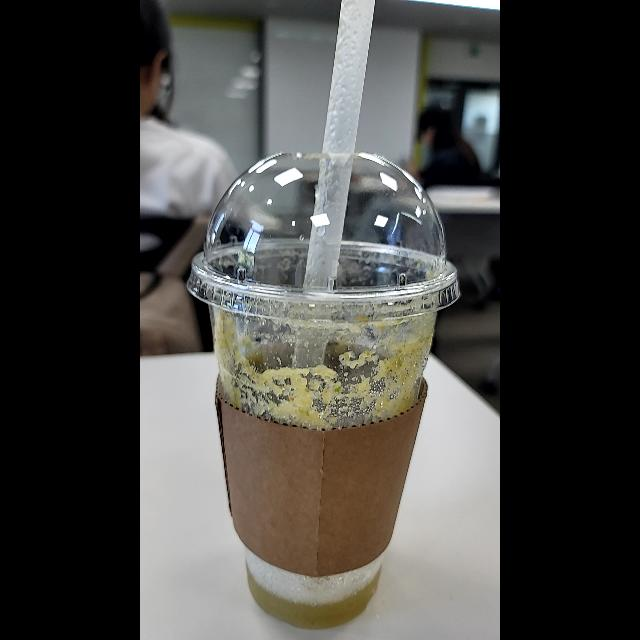plastic_cup: (185, 149, 460, 631)
plastic_cup_lid: (185, 148, 461, 328)
straw: (294, 0, 370, 370)
